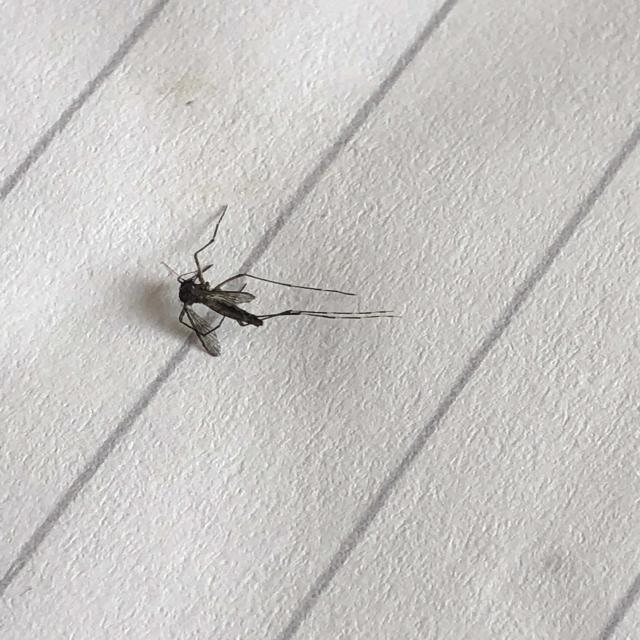albopictus: (145, 198, 390, 361)
